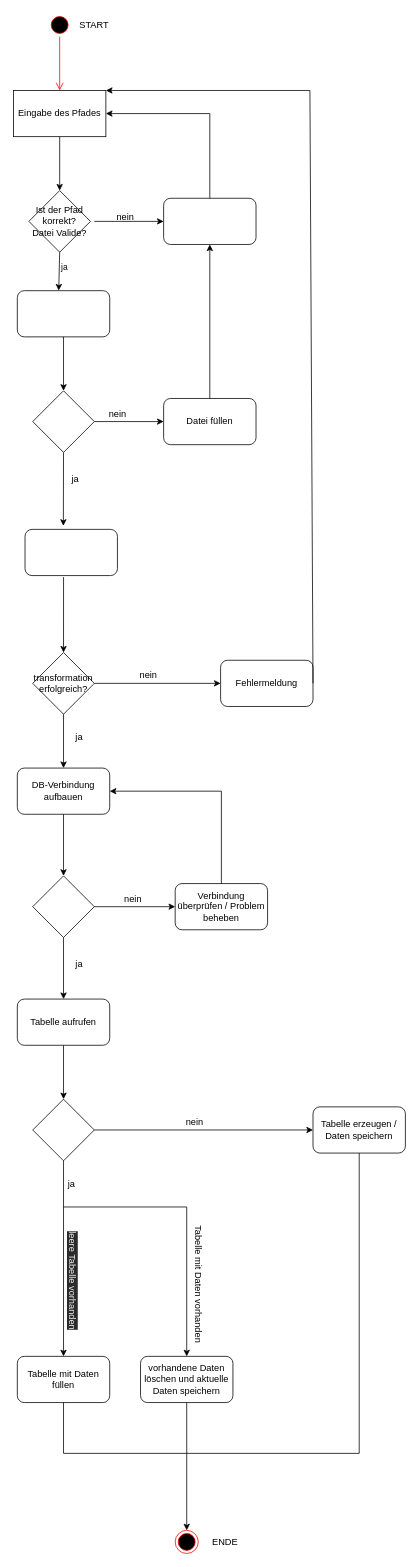
Some shapes in this 419 by 1567 pixel diagram are drawn without their labels. The shapes that lost their labels are listed below. From the top down, each one's centre as x and y in pixels, then its label:
At [209,221]: "Pfad inkorrekt / Datei nicht valide".
At [63,313]: "Datei über Pfad auslesen".
At [63,421]: "Daten vorhanden?".
At [70,552]: "CSV in SQL transformieren".
At [63,906]: "DB-Verbindung erfolgreich?".
At [63,1129]: "existiert eine Tabelle?".
